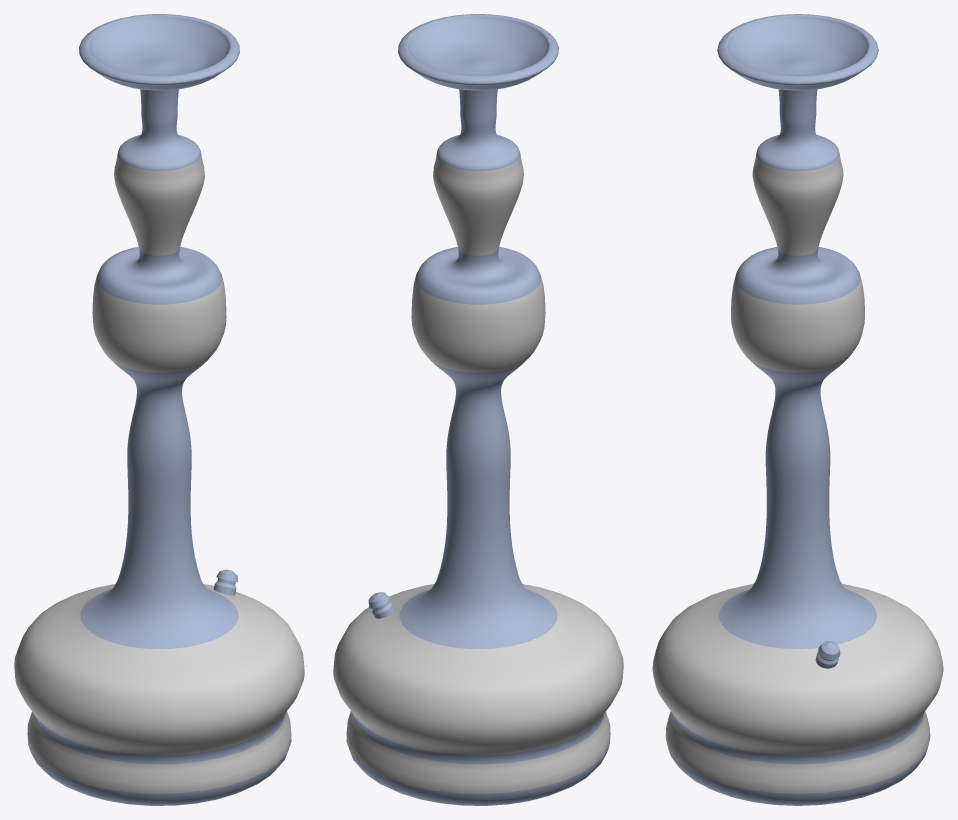
Rendered from Hookah.fbx.
3 renders of one model, left to right at view 1: azimuth 30°, elevation 25°; view 2: azimuth 150°, elevation 25°; view 3: azimuth 270°, elevation 25°, orthographic.
Visible parts, largest first — view 1: BezierCurve; view 2: BezierCurve; view 3: BezierCurve.
Part boxes in pixels (x1,y1,x2,y2): BezierCurve: [14, 14, 304, 805]; BezierCurve: [333, 14, 623, 805]; BezierCurve: [652, 14, 943, 805].
Size of the model in its own units: 173 by 472 by 173.
